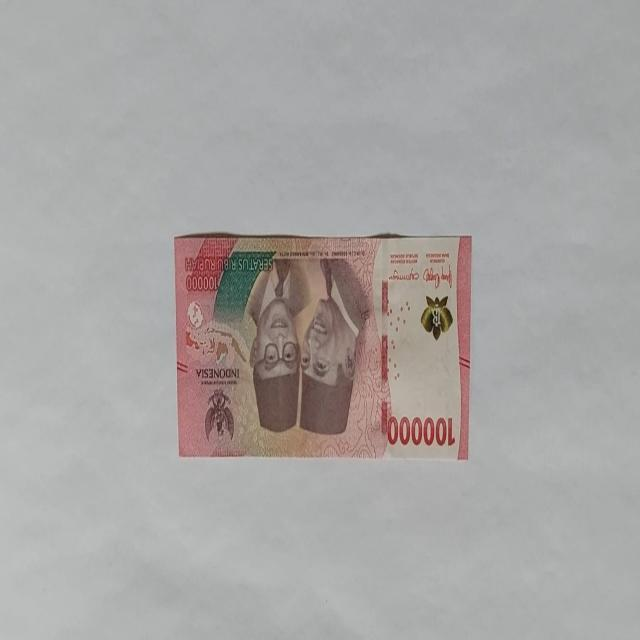seratus ribu rupiah: (173, 231, 472, 461)
